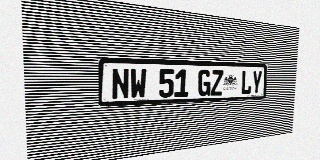1: (174, 69, 189, 97)
5: (159, 69, 174, 98)
G: (198, 70, 211, 96)
L: (241, 70, 252, 95)
N: (111, 68, 129, 100)
W: (130, 68, 147, 99)
Y: (251, 71, 262, 94)
Z: (211, 70, 223, 96)
